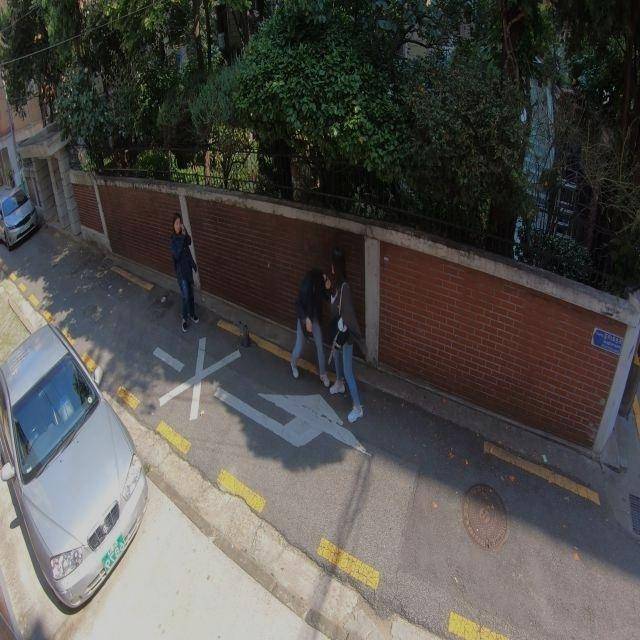fight: (292, 263, 366, 423)
non-fight: (166, 214, 198, 325)
